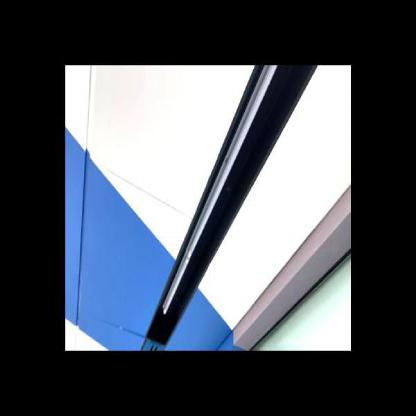light_off: (157, 65, 287, 318)
